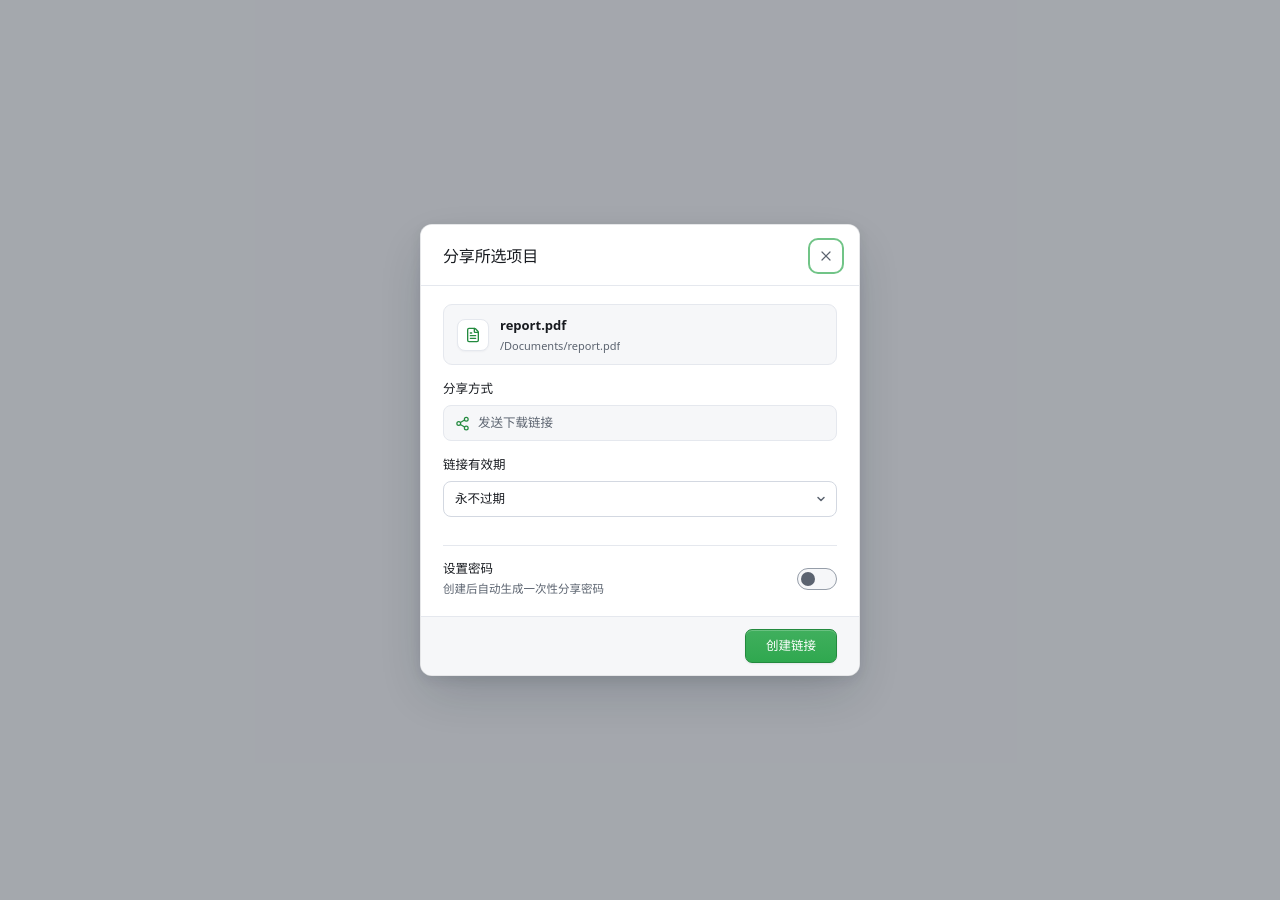
Test case: CreateShareLinkDialog › creates a download link from the selected file path
Click the button "创建链接": (791, 646) 745,629 -> 837,663
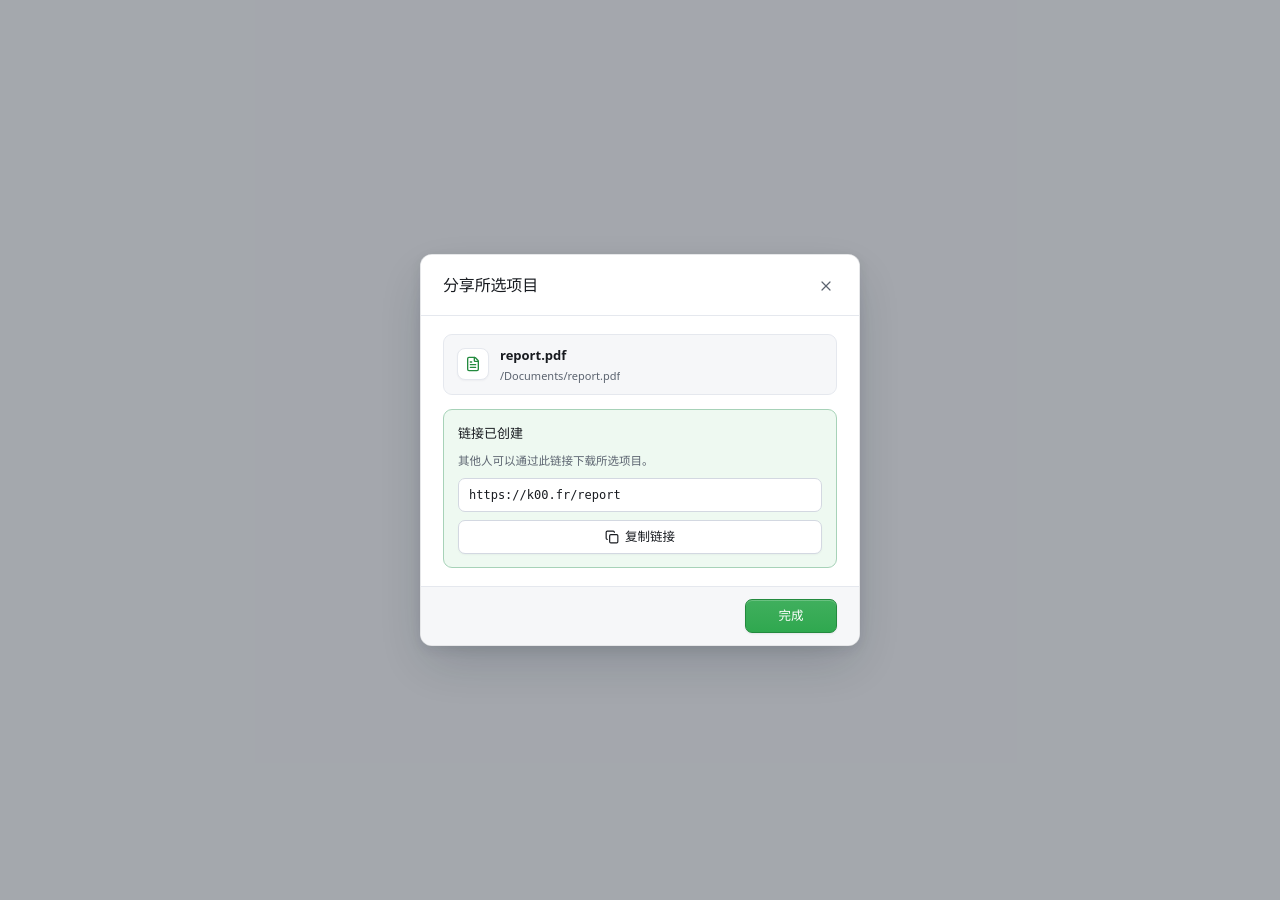
expect the field named "分享链接地址" holds "https://k00.fr/report": met, box 458,478 -> 822,512
